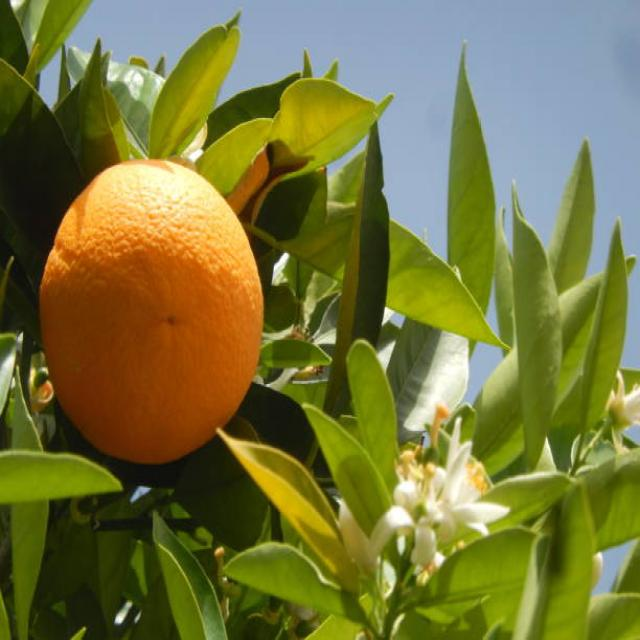orange: (38, 158, 268, 466)
